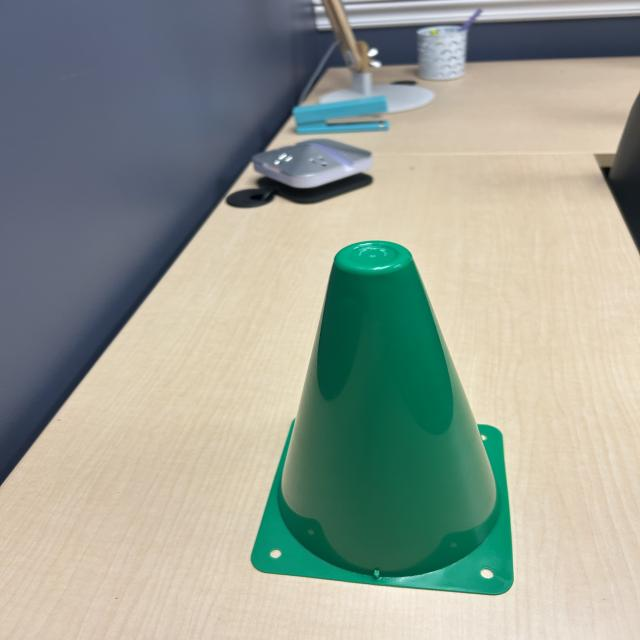green cone: (243, 238, 528, 600)
